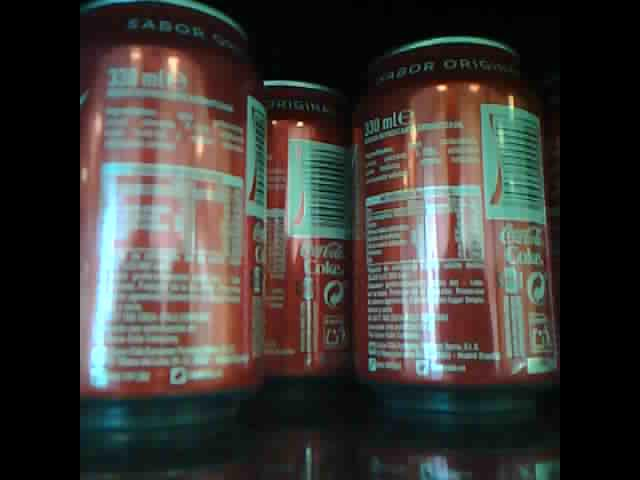coca cola: (348, 36, 564, 409), (79, 6, 267, 431), (259, 71, 351, 387)
